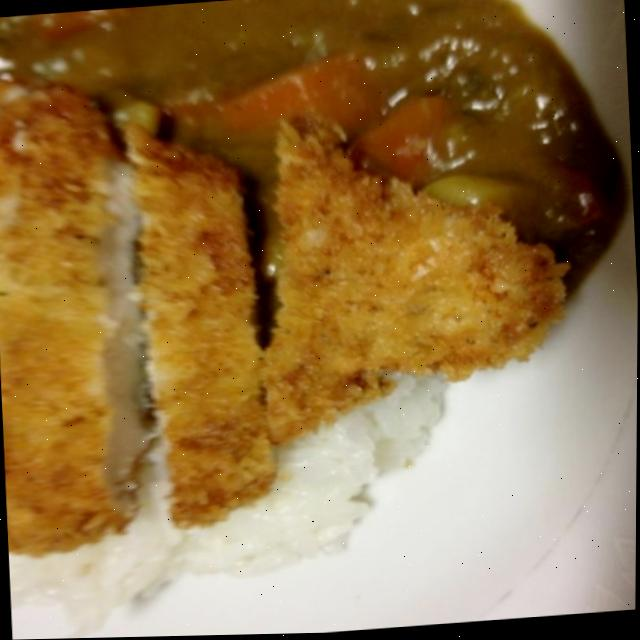鸡肉料理 含炸鸡: (0, 76, 587, 537)
